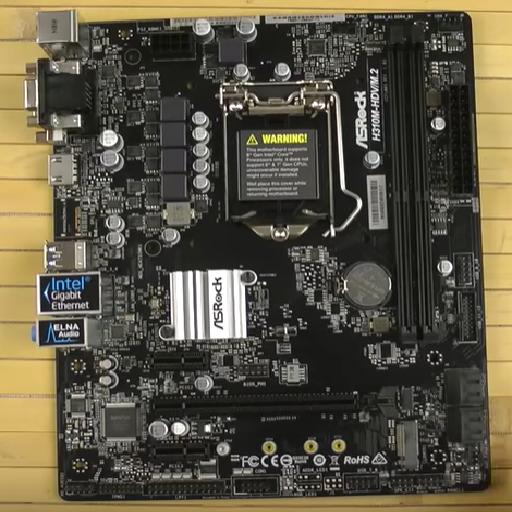CPU: (222, 81, 344, 243)
GPU: (145, 388, 403, 421)
MOTHERBOARD: (26, 9, 492, 493)
RAM: (383, 28, 445, 340)
